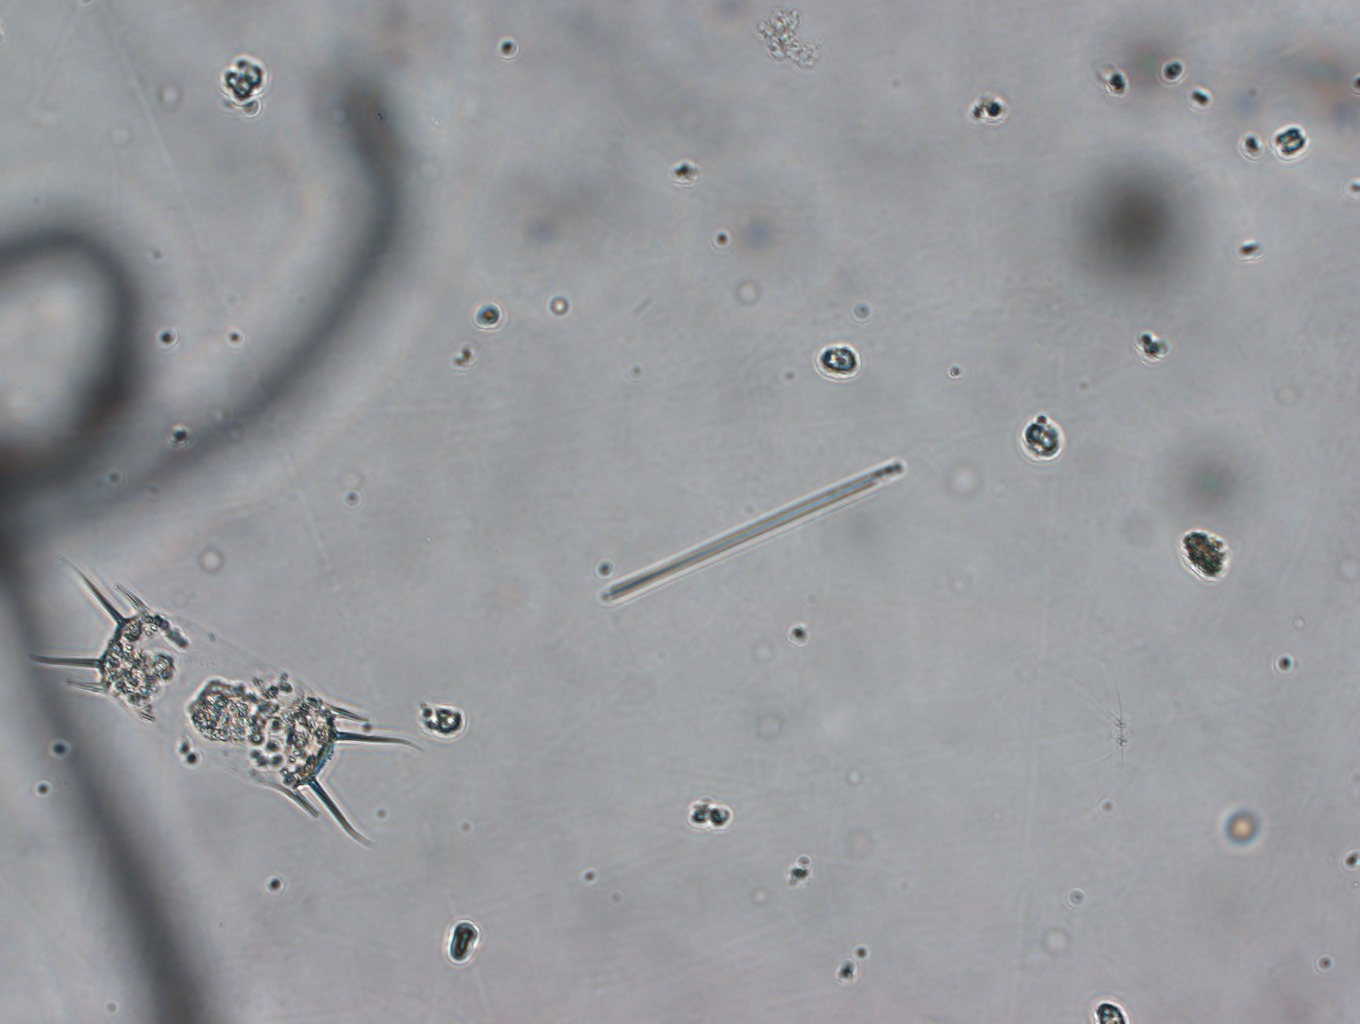biddulphia: (20, 545, 426, 850)
